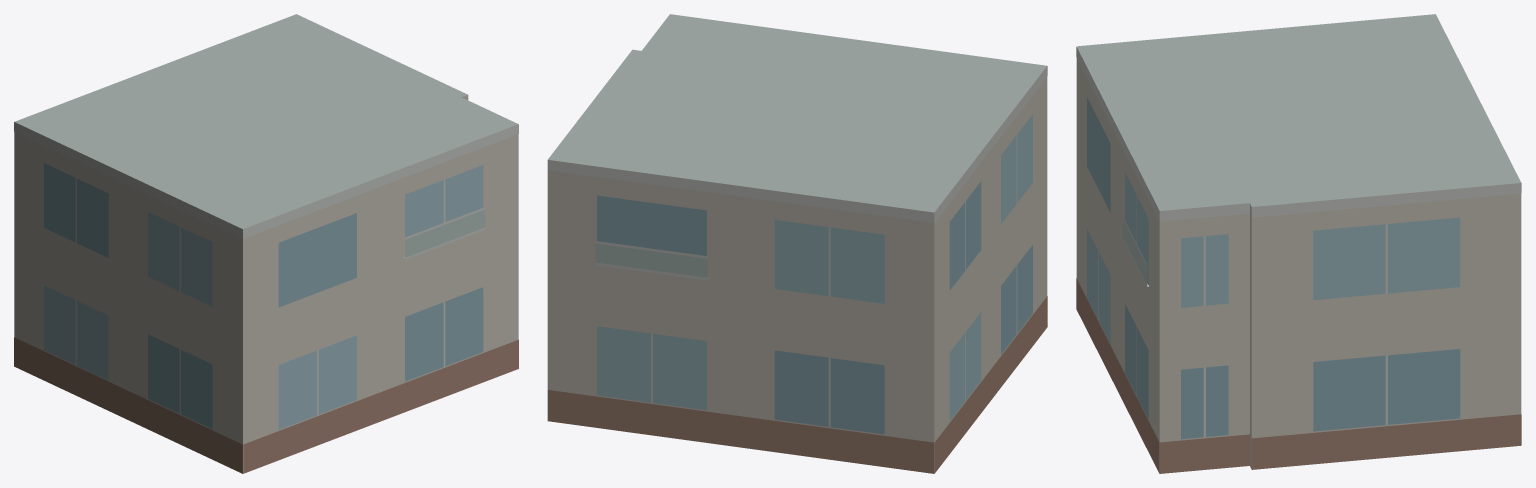
The model's file is survey-upis-32916135.glb.
3 views of the same model, side by side, from view 1: azimuth 30°, elevation 25°; view 2: azimuth 150°, elevation 25°; view 3: azimuth 270°, elevation 25° (orthographic). The views are drawn at different scales.
Visible parts, largest first — view 1: survey-upis-32916135.tmp; view 2: survey-upis-32916135.tmp; view 3: survey-upis-32916135.tmp.
Part boxes in pixels (<box>): survey-upis-32916135.tmp: <box>14,14,518,473</box>; survey-upis-32916135.tmp: <box>547,14,1047,473</box>; survey-upis-32916135.tmp: <box>1076,14,1521,473</box>.
Size of the model in its own units: 9.82 by 6.1 by 9.38.
